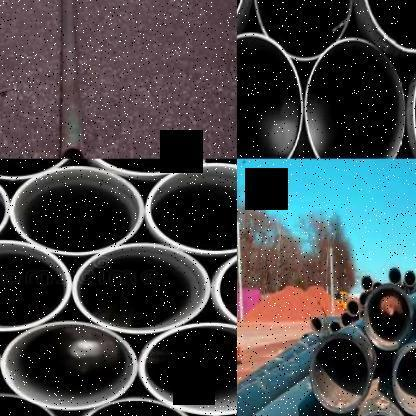pipe: (72, 242, 210, 334), (304, 36, 406, 158), (0, 320, 138, 409), (10, 166, 145, 256), (138, 322, 236, 416), (145, 162, 237, 254), (237, 32, 303, 158), (0, 240, 71, 333), (254, 0, 354, 61), (310, 332, 372, 414), (363, 284, 414, 350), (360, 0, 416, 53), (73, 396, 200, 416), (214, 241, 236, 337), (392, 344, 416, 415), (0, 393, 61, 416), (0, 165, 11, 254), (201, 396, 237, 416), (388, 266, 401, 286), (62, 147, 83, 159), (310, 316, 323, 334), (340, 312, 354, 328), (403, 270, 416, 286), (360, 274, 373, 290), (348, 300, 360, 316), (328, 321, 341, 333), (359, 291, 369, 305)
